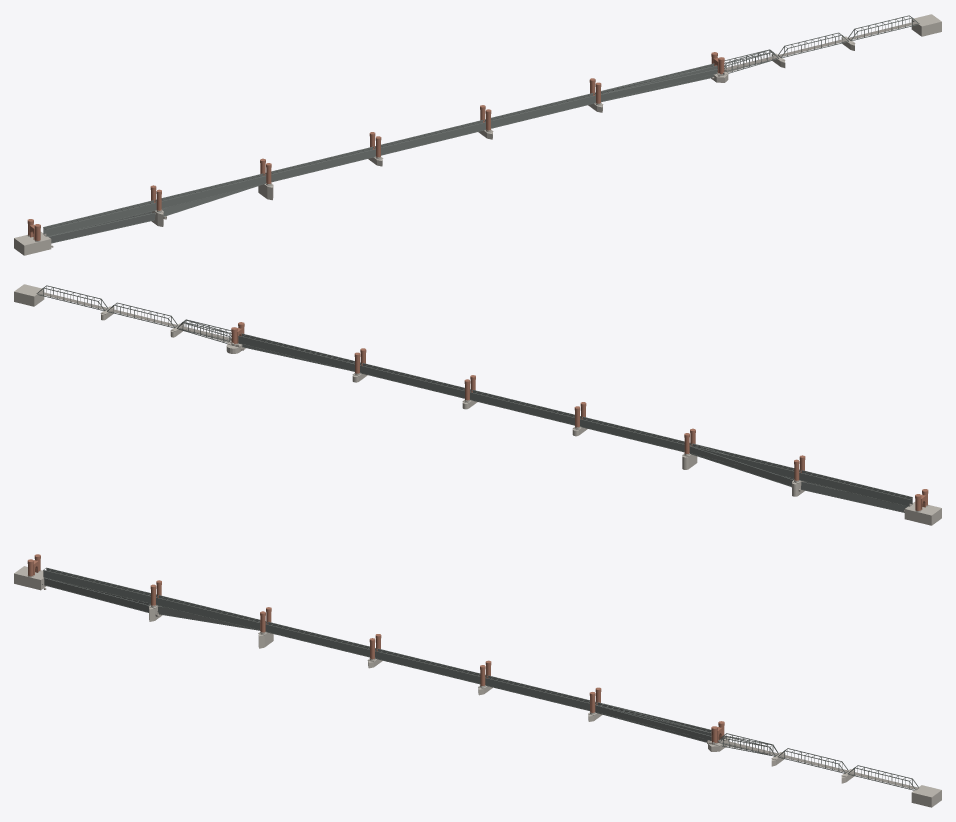
Rendered from bridge_road_lentze_1857_1912.lod1.glb.
3 views of the same model, one above another, from view 1: azimuth 30°, elevation 25°; view 2: azimuth 150°, elevation 25°; view 3: azimuth 330°, elevation 25° (orthographic).
Parts seen in each view (by area): view 1: road_span_01, road_span_02, road_span_03, road_span_04, road_span_05, road_span_06_collapsed, road_span_01_collapsed, road_span_06, road_span_09, road_span_08, road_support_00, road_support_09; view 2: road_span_06, road_span_01, road_span_03, road_span_04, road_span_05, road_span_02_collapsed, road_span_02, road_span_01_collapsed, road_span_09, road_span_08, road_support_00, road_support_09; view 3: road_span_01, road_span_04, road_span_02, road_span_03, road_span_05, road_span_06_collapsed, road_span_01_collapsed, road_span_06, road_span_08, road_span_09.
Boxes of the visible parts, x1,y1,x2,y2 form: road_span_01: [43, 200, 156, 236]; road_span_02: [155, 173, 266, 208]; road_span_03: [265, 146, 375, 182]; road_span_04: [375, 120, 485, 155]; road_span_05: [485, 93, 595, 128]; road_span_06_collapsed: [595, 68, 717, 102]; road_span_01_collapsed: [44, 211, 155, 243]; road_span_06: [595, 63, 717, 101]; road_span_09: [847, 15, 919, 40]; road_span_08: [777, 32, 848, 58]; road_support_00: [14, 232, 51, 255]; road_support_09: [911, 14, 941, 36]; road_span_06: [238, 333, 360, 371]; road_span_01: [799, 470, 912, 506]; road_span_03: [580, 416, 690, 452]; road_span_04: [470, 390, 580, 425]; road_span_05: [360, 363, 470, 398]; road_span_02_collapsed: [690, 443, 793, 486]; road_span_02: [689, 443, 800, 478]; road_span_01_collapsed: [801, 481, 906, 512]; road_span_09: [36, 285, 108, 310]; road_span_08: [107, 302, 178, 328]; road_support_00: [904, 502, 941, 525]; road_support_09: [14, 284, 44, 306]; road_span_01: [43, 567, 156, 603]; road_span_04: [375, 648, 486, 684]; road_span_02: [156, 595, 266, 630]; road_span_03: [265, 622, 376, 657]; road_span_05: [485, 675, 596, 710]; road_span_06_collapsed: [595, 702, 711, 742]; road_span_01_collapsed: [44, 578, 150, 612]; road_span_06: [595, 703, 711, 740]; road_span_08: [777, 748, 848, 773]; road_span_09: [847, 765, 919, 790].
Bounding box in the file's own units: 1089 × 37.8 × 30.
